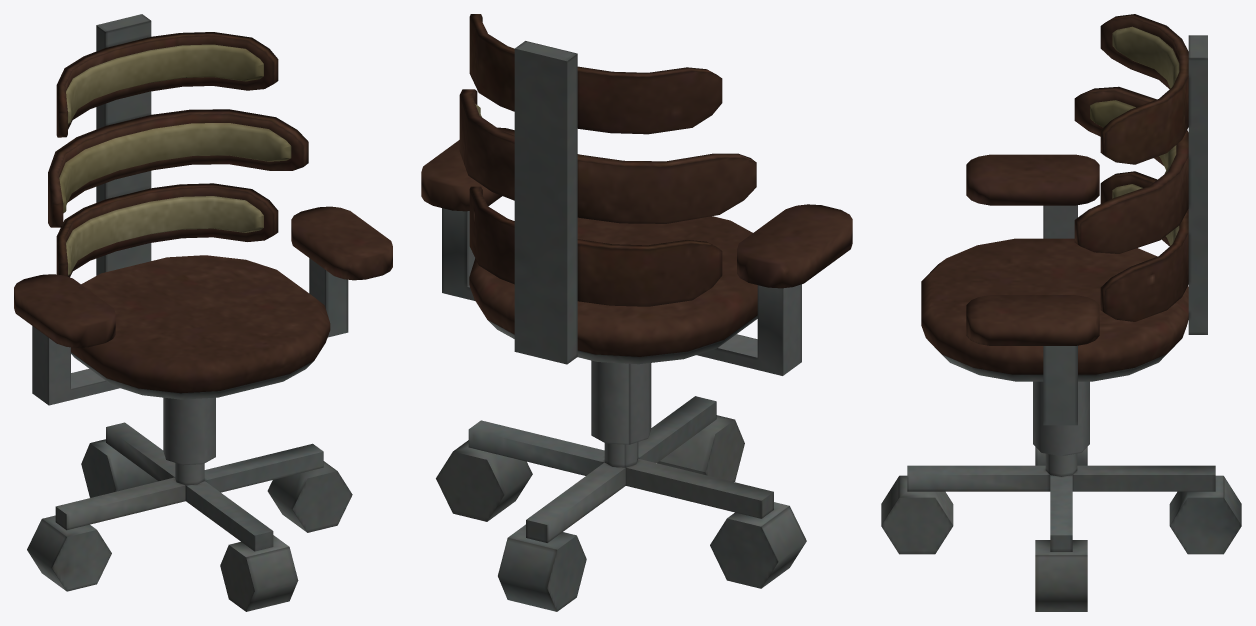
File: OfficeChair.fbx
3 renders of one model, left to right at view 1: azimuth 30°, elevation 25°; view 2: azimuth 150°, elevation 25°; view 3: azimuth 270°, elevation 25°, orthographic. The views are drawn at different scales.
Visible parts, largest first — view 1: Chair; view 2: Chair; view 3: Chair.
Boxes of the visible parts, x1=… form: Chair: x1=14, y1=14, x2=392, y2=611; Chair: x1=421, y1=14, x2=852, y2=611; Chair: x1=881, y1=14, x2=1241, y2=611.
Size of the model in its own units: 62.79 by 85.79 by 56.46.
